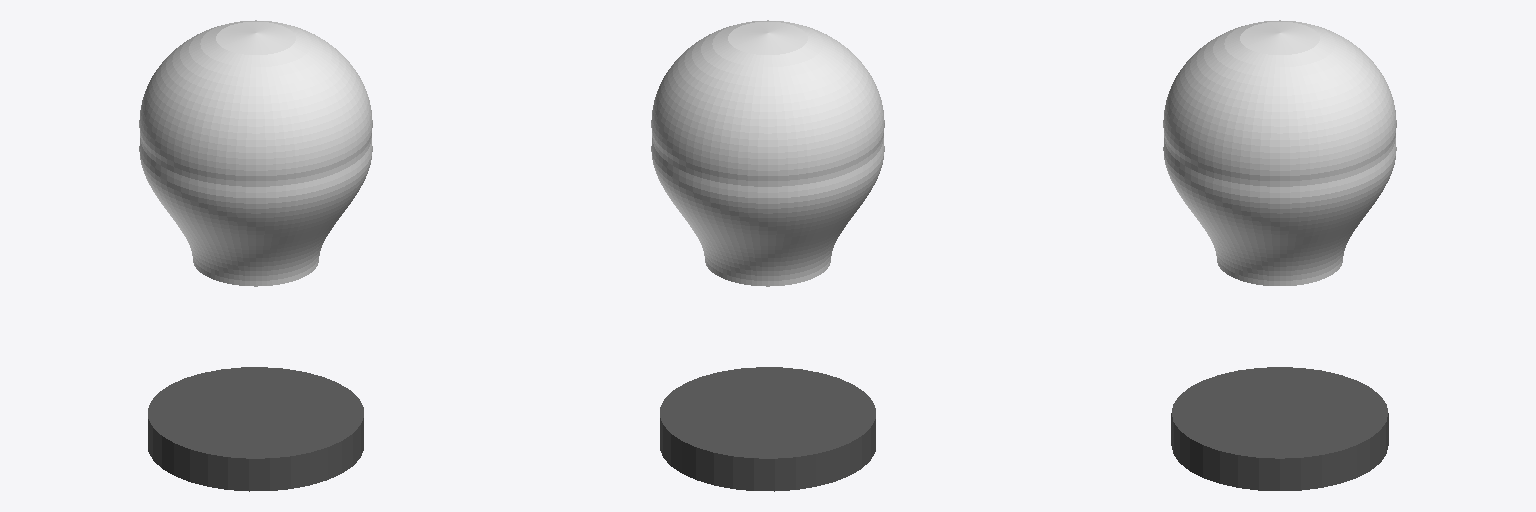
robot.urdf — lightbulb_1dof_roundedcontact:
<?xml version="1.0"?>
<robot name="lightbulb_1dof_roundedcontact">

  <!--
    Thesis lightbulb geometry probe: rounded contact head.

    Use via Hydra override:
      task.env.object.type=screw_roundedcontact

    The socket stays on the proven contact1.stl mesh. The bulb head uses a new
    smooth lathed mesh with the same bounding box scale as contact0.stl, but a
    broad rounded contact band to keep fingertip affordance.
  -->

  <link name="base">
    <visual>
      <origin xyz="0 0 0" rpy="0 0 0"/>
      <geometry>
        <cylinder radius="0.03" length="0.01"/>
      </geometry>
      <material name="base_gray">
        <color rgba="0.40 0.40 0.40 1"/>
      </material>
    </visual>
    <collision>
      <origin xyz="0 0 0" rpy="0 0 0"/>
      <geometry>
        <cylinder radius="0.03" length="0.01"/>
      </geometry>
    </collision>
    <inertial>
      <origin xyz="0 0 0" rpy="0 0 0"/>
      <mass value="0.05"/>
      <inertia ixx="1e-5" ixy="0" ixz="0" iyy="1e-5" iyz="0" izz="1e-5"/>
    </inertial>
  </link>

  <link name="bolt">
    <inertial>
      <origin xyz="0 0 0" rpy="0 0 0"/>
      <mass value="0.01"/>
      <inertia ixx="1e-6" ixy="0" ixz="0" iyy="1e-6" iyz="0" izz="1e-6"/>
    </inertial>
  </link>

  <joint name="base_to_bolt" type="fixed">
    <parent link="base"/>
    <child link="bolt"/>
    <origin xyz="0 0 0.005" rpy="0 0 0"/>
  </joint>

  <link name="nut">
    <visual>
      <origin xyz="0 0 0.06" rpy="0 -1.57079632679 0"/>
      <geometry>
        <mesh filename="../../lightbulb/rounded_contact_head.stl"/>
      </geometry>
      <material name="rounded_head_white">
        <color rgba="0.92 0.92 0.92 1"/>
      </material>
    </visual>
    <visual>
      <origin xyz="0 0 0.06" rpy="0 -1.57079632679 0"/>
      <geometry>
        <mesh filename="../../lightbulb/contact1.stl"/>
      </geometry>
      <material name="contact_socket_gray">
        <color rgba="0.50 0.50 0.50 1"/>
      </material>
    </visual>

    <collision>
      <origin xyz="0 0 0.06" rpy="0 -1.57079632679 0"/>
      <geometry>
        <mesh filename="../../lightbulb/rounded_contact_head.stl"/>
      </geometry>
    </collision>
    <collision>
      <origin xyz="0 0 0.06" rpy="0 -1.57079632679 0"/>
      <geometry>
        <mesh filename="../../lightbulb/contact1.stl"/>
      </geometry>
    </collision>

    <inertial>
      <origin xyz="0 0 0.02" rpy="0 0 0"/>
      <mass value="0.05"/>
      <inertia ixx="1e-5" ixy="0" ixz="0" iyy="1e-5" iyz="0" izz="1e-5"/>
    </inertial>
  </link>

  <joint name="bolt_to_nut" type="revolute">
    <parent link="bolt"/>
    <child link="nut"/>
    <origin xyz="0 0 0" rpy="0 0 0"/>
    <axis xyz="0 0 -1"/>
    <dynamics friction="0.2"/>
    <limit lower="0.0" upper="628.3185" effort="2.0" velocity="6.2832"/>
  </joint>

</robot>

--- Render facts (derived) ---
3 views of the same robot in one strip: view 1: azimuth 30°, elevation 25°; view 2: azimuth 150°, elevation 25°; view 3: azimuth 270°, elevation 25° (orthographic).
Model lightbulb_1dof_roundedcontact with 3 links and 2 joints (1 revolute, 1 fixed), rooted at base, posed every joint at zero.
Links seen in each view (by area): view 1: nut, base; view 2: nut, base; view 3: nut, base.
Boxes of the visible links, x1,y1,x2,y2 form: nut: (139,20,372,286); base: (148,367,363,491); nut: (651,20,884,286); base: (660,367,875,491); nut: (1163,20,1396,285); base: (1171,367,1388,490).
Bounding box of the posed robot: 0.0645 × 0.0645 × 0.1259 m (x, y, z).
1 mesh visuals loaded from 2 distinct referenced files (1 binary STL); not drawn: 1 (reference not matched to a file when rendering).
